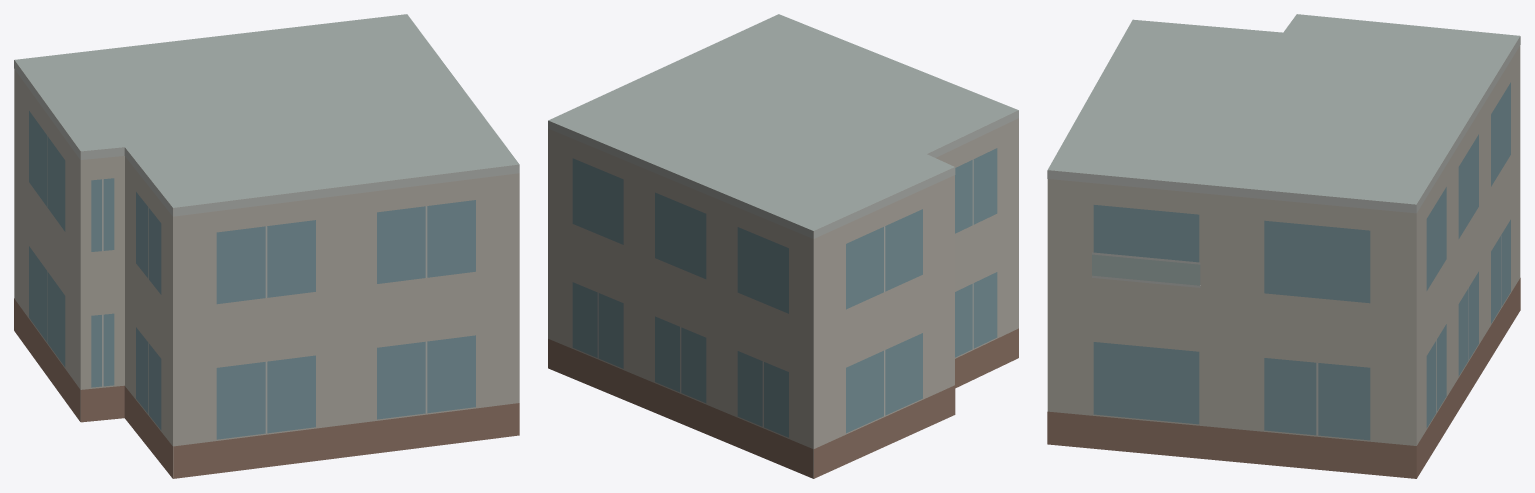
File: survey-upis-33024721.glb
3 views of the same model, side by side, from view 1: azimuth 30°, elevation 25°; view 2: azimuth 150°, elevation 25°; view 3: azimuth 270°, elevation 25° (orthographic). The views are drawn at different scales.
Visible parts, largest first — view 1: survey-upis-33024721.tmp; view 2: survey-upis-33024721.tmp; view 3: survey-upis-33024721.tmp.
Part boxes in pixels (bbox=[...]): survey-upis-33024721.tmp: bbox=[14, 14, 519, 478]; survey-upis-33024721.tmp: bbox=[548, 14, 1018, 478]; survey-upis-33024721.tmp: bbox=[1047, 14, 1520, 478].
Bounding box in the file's own units: 11.34 × 7.6 × 11.89.
